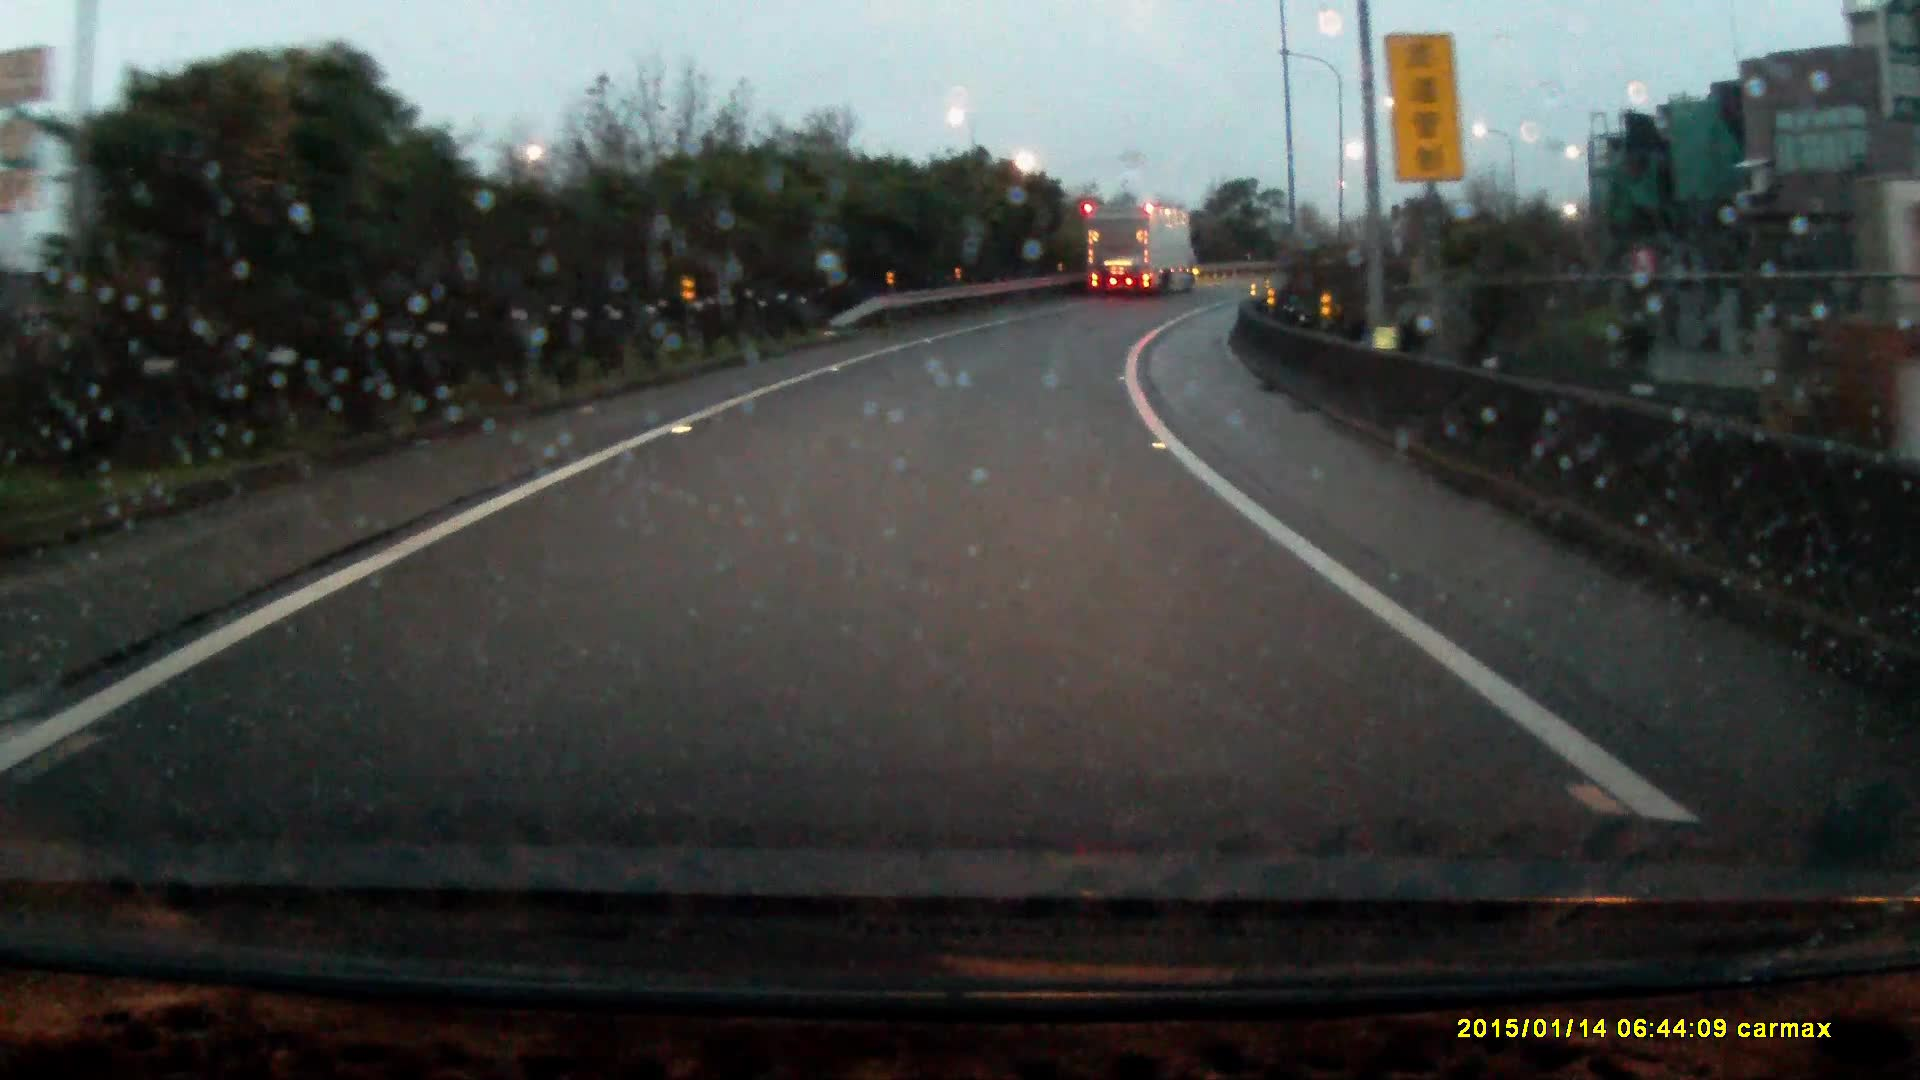vehicle: (1084, 200, 1200, 297)
